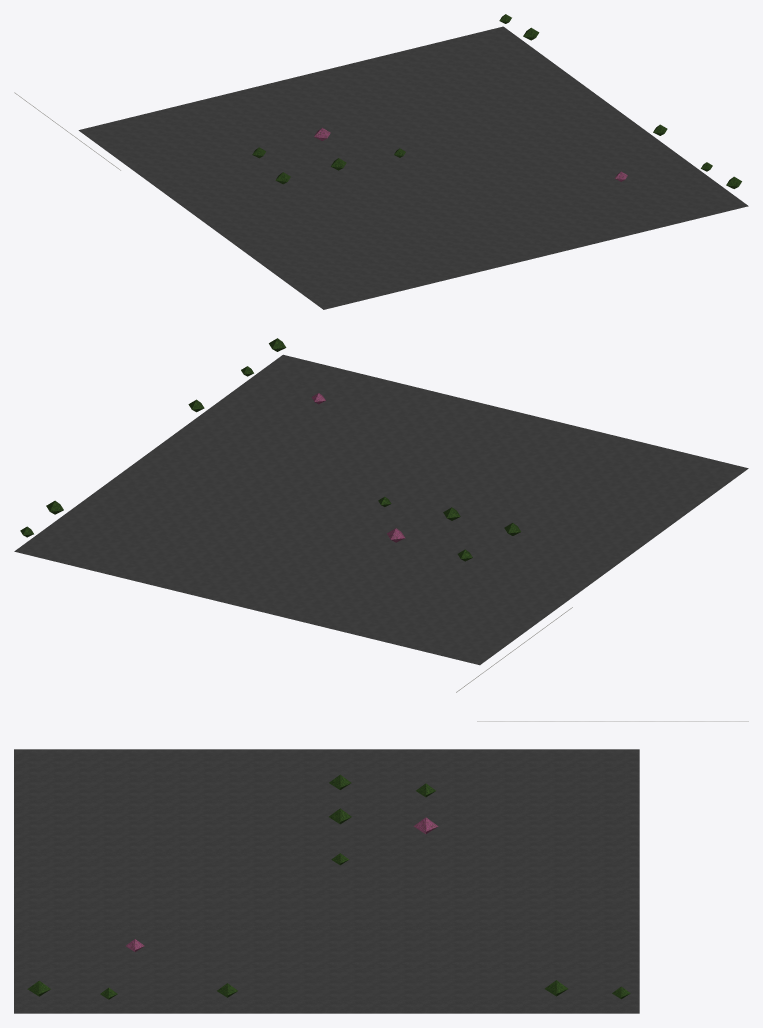
The model's file is cidade_S06_05_lod.gltf.
3 views of the same model, one above another, from view 1: azimuth 30°, elevation 25°; view 2: azimuth 150°, elevation 25°; view 3: azimuth 270°, elevation 25° (orthographic). The views are drawn at different scales.
Visible parts, largest first — view 1: S06_05_Chao_LOD2, S06_05_Vegetacao_LOD2; view 2: S06_05_Chao_LOD2, S06_05_Vegetacao_LOD2; view 3: S06_05_Chao_LOD2, S06_05_Vegetacao_LOD2.
Part boxes in pixels (x1=…): S06_05_Chao_LOD2: x1=78, y1=26, x2=748, y2=309; S06_05_Vegetacao_LOD2: x1=252, y1=14, x2=741, y2=188; S06_05_Chao_LOD2: x1=14, y1=354, x2=748, y2=665; S06_05_Vegetacao_LOD2: x1=20, y1=338, x2=520, y2=561; S06_05_Chao_LOD2: x1=14, y1=749, x2=639, y2=1013; S06_05_Vegetacao_LOD2: x1=27, y1=774, x2=630, y2=999.
Bounding box in the file's own units: 106 × 5.57 × 117.
4 materials, 4 textured.
